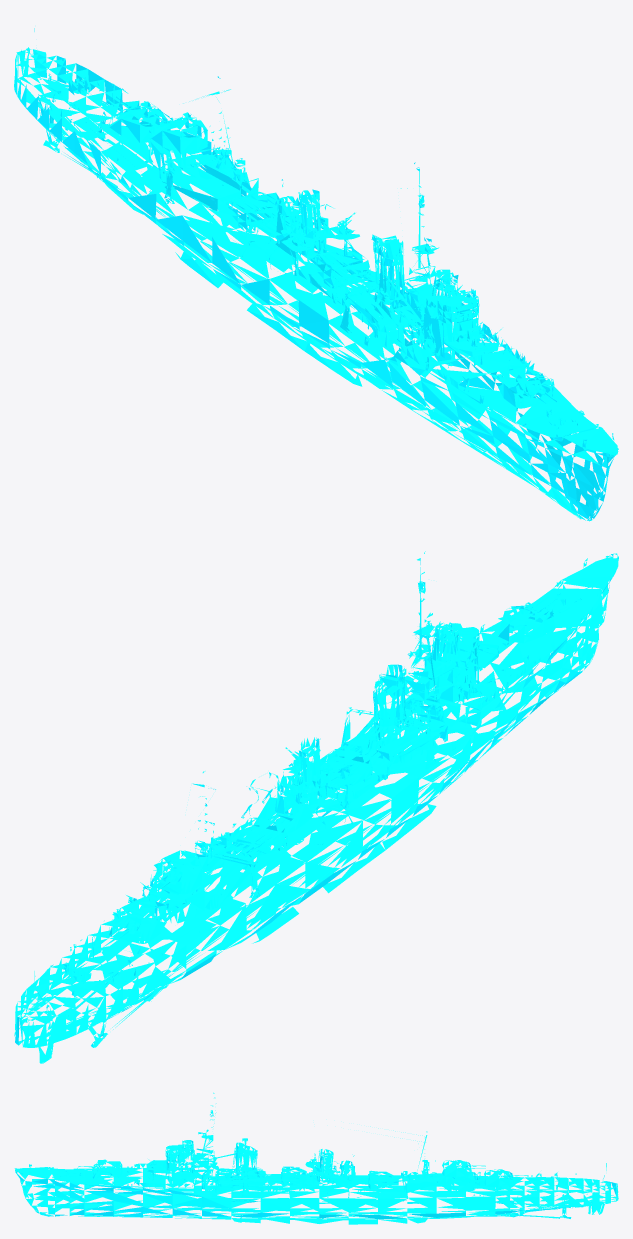
The model's file is AZUR_Yukikaze.glb.
3 renders of one model, top to bottom at view 1: azimuth 30°, elevation 25°; view 2: azimuth 150°, elevation 25°; view 3: azimuth 270°, elevation 25°, orthographic. The views are drawn at different scales.
Size of the model in its own units: 0.7496 by 1.77 by 7.9.
